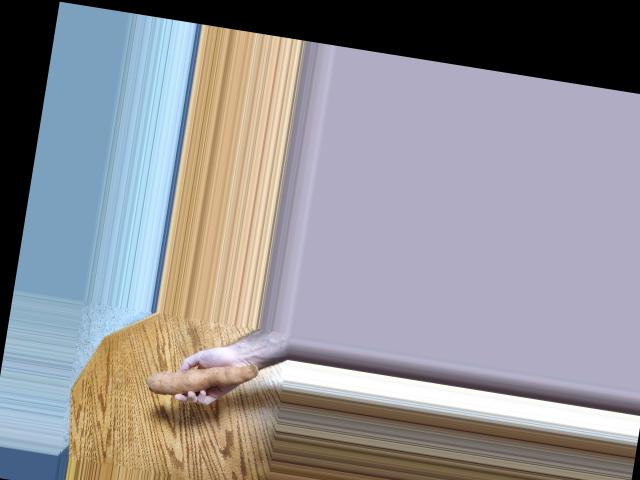sweet_potato: (149, 354, 252, 410)
